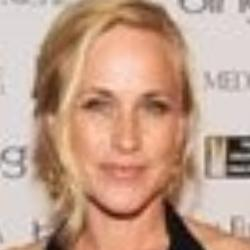face: (24, 1, 215, 230)
